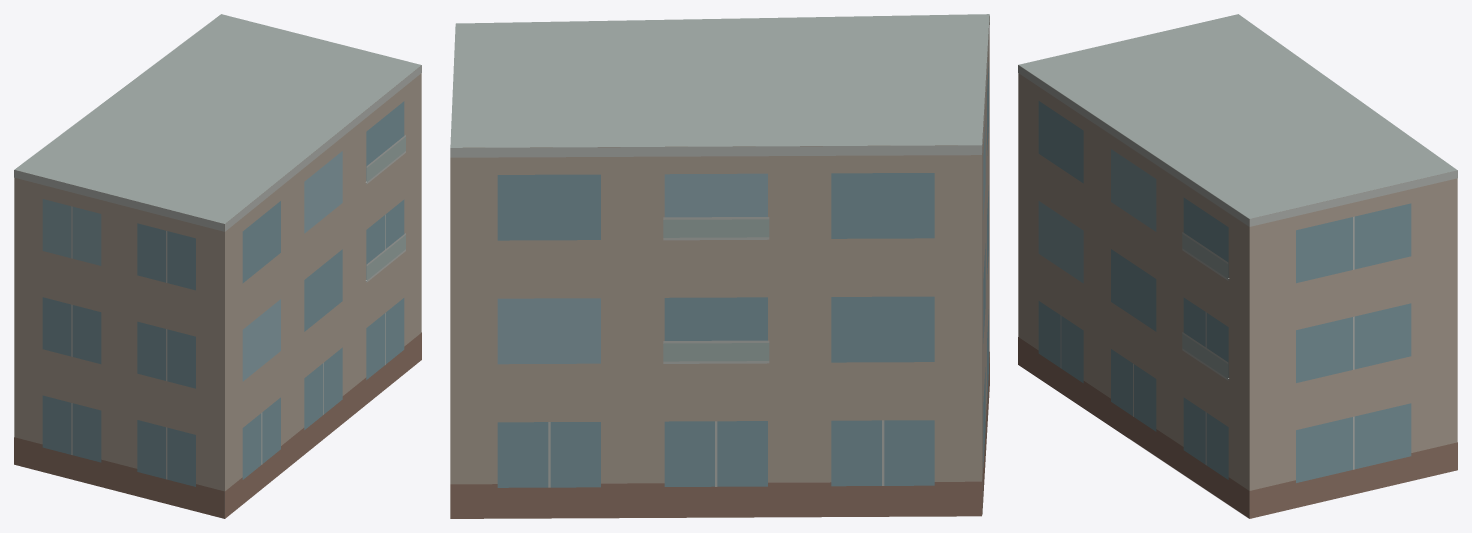
Rendered from survey-upis-32882784.glb.
3 renders of one model, left to right at view 1: azimuth 30°, elevation 25°; view 2: azimuth 150°, elevation 25°; view 3: azimuth 270°, elevation 25°, orthographic. The views are drawn at different scales.
Parts seen in each view (by area): view 1: survey-upis-32882784.tmp; view 2: survey-upis-32882784.tmp; view 3: survey-upis-32882784.tmp.
Part boxes in pixels (x1,y1,x2,y2): survey-upis-32882784.tmp: [14, 14, 421, 518]; survey-upis-32882784.tmp: [450, 14, 989, 518]; survey-upis-32882784.tmp: [1018, 14, 1457, 518].
Bounding box in the file's own units: 13.42 × 9.15 × 12.17.
